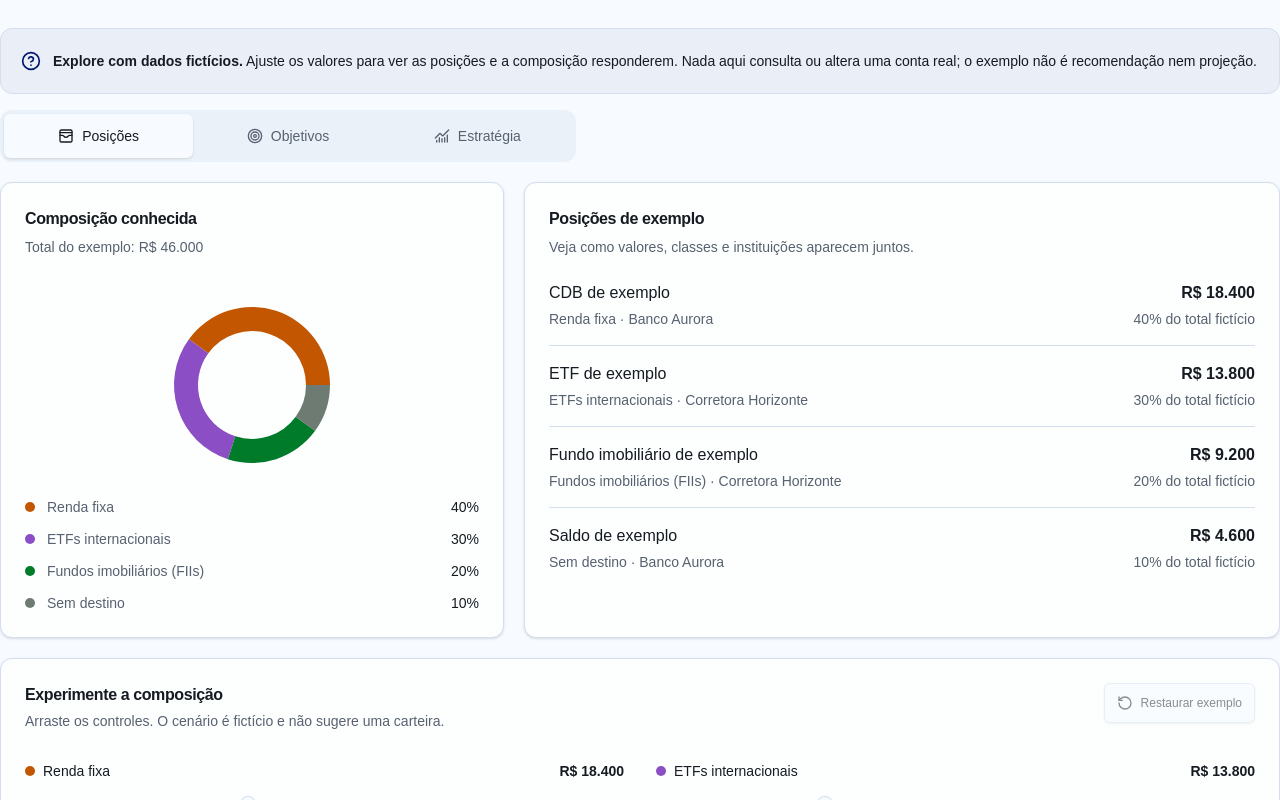
Test case: PortfolioDemo › switches to the strategy view and labels sample percentages as user-defined
Click the tab "Estratégia" at [477, 136], box [383,114,572,158]
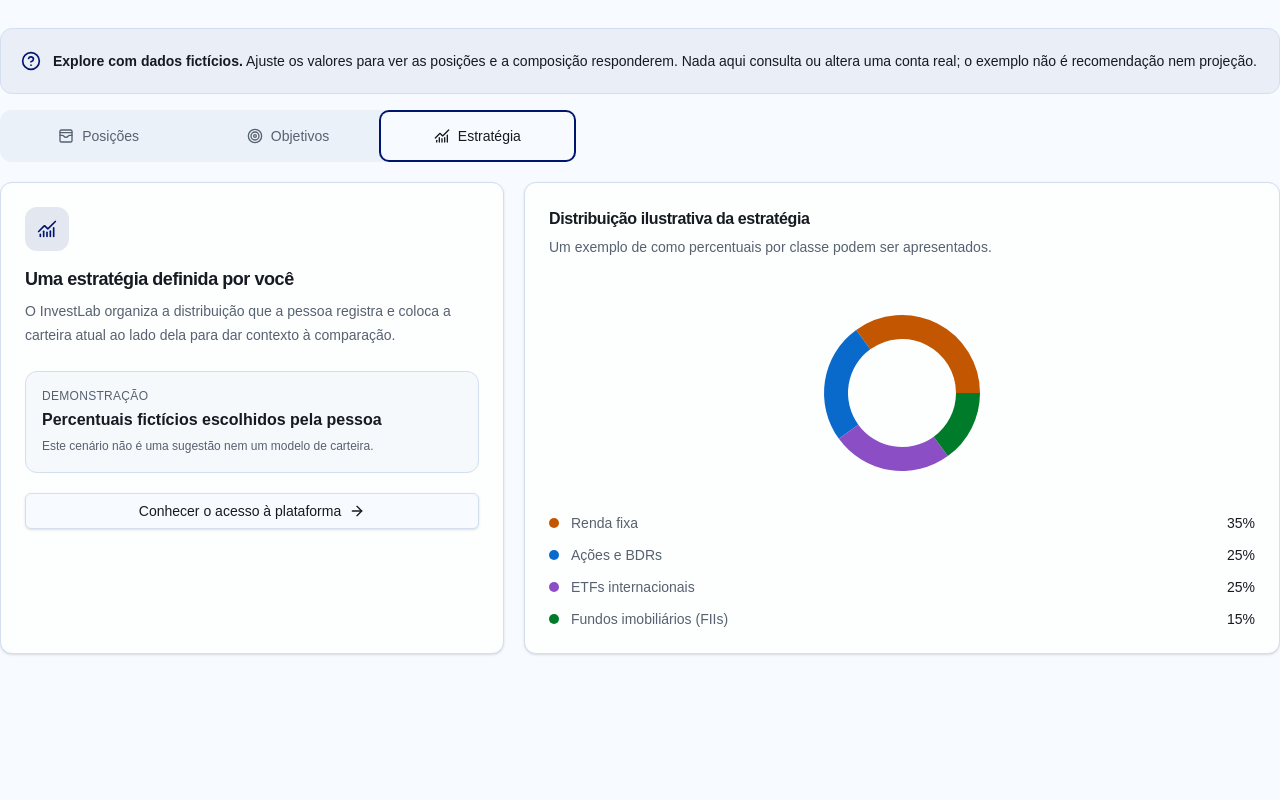
Check: the text "Percentuais fictícios escolhidos pela pessoa" is shown, box [42,411,382,428]
Check: the picture named "Estratégia fictícia definida pela pessoa" is shown, box [774,281,1030,505]
Check: the text "Ações e BDRs" is shown, box [571,547,662,563]
